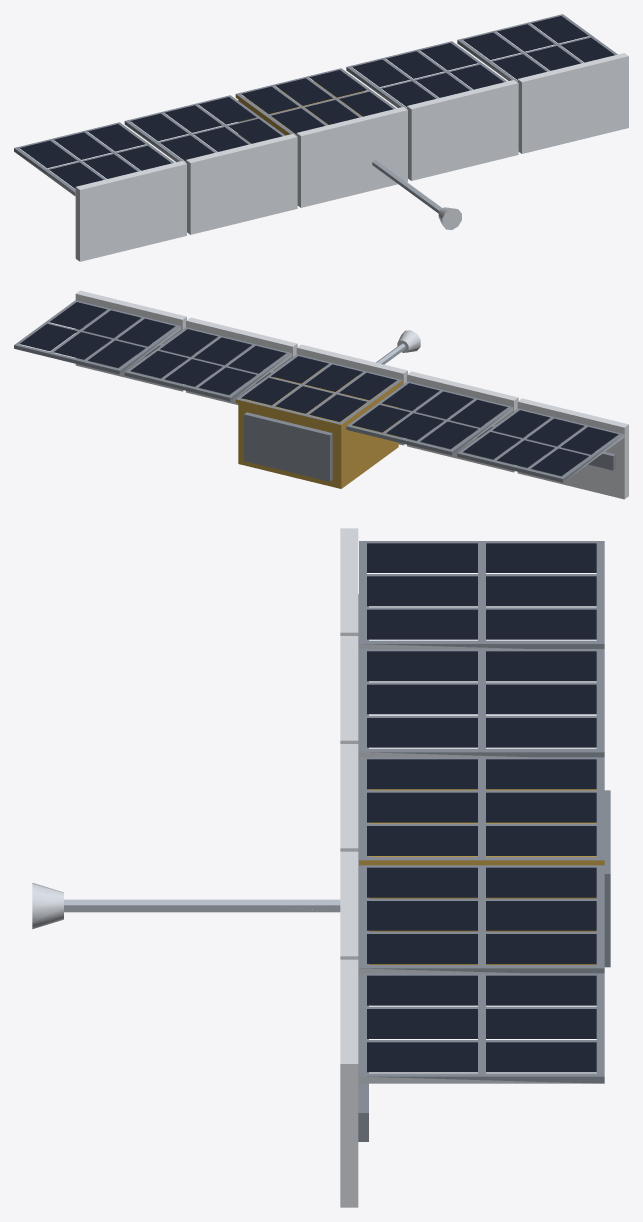
Rendered from iceye.glb.
3 views of the same model, one above another, from view 1: azimuth 30°, elevation 25°; view 2: azimuth 150°, elevation 25°; view 3: azimuth 270°, elevation 25° (orthographic). The views are drawn at different scales.
Visible parts, largest first — view 1: body, solar-panel, foil; view 2: solar-panel, body, foil; view 3: solar-panel, body, foil.
Part boxes in pixels (x1,y1,x2,y2): body: (14, 14, 628, 261); solar-panel: (20, 16, 614, 188); foil: (235, 81, 364, 143); solar-panel: (20, 302, 618, 476); body: (14, 290, 628, 499); foil: (235, 367, 402, 488); solar-panel: (367, 543, 596, 1072); body: (32, 528, 610, 1207); foil: (359, 789, 604, 964).
Size of the model in its own units: 3.2 by 0.4 by 1.46.
